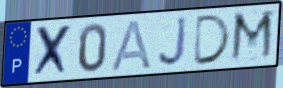0: (77, 21, 110, 75)
A: (109, 18, 154, 72)
D: (191, 12, 233, 67)
J: (156, 15, 189, 69)
M: (228, 8, 276, 65)
X: (30, 22, 74, 79)
